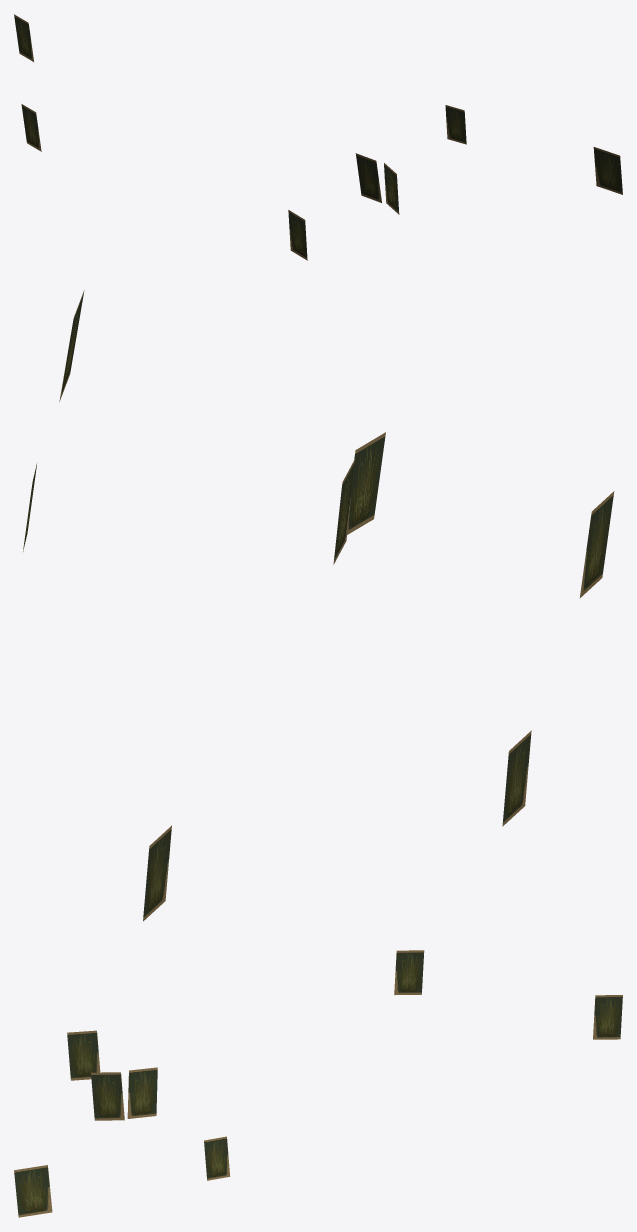
Rendered from menu_object_grass_polys10.fbx.
3 renders of one model, top to bottom at view 1: azimuth 30°, elevation 25°; view 2: azimuth 150°, elevation 25°; view 3: azimuth 270°, elevation 25°, orthographic. The views are drawn at different scales.
Parts seen in each view (by area): view 1: Material_#238683980/town_grass_mat; view 2: Material_#238683980/town_grass_mat; view 3: Material_#238683980/town_grass_mat.
Boxes of the visible parts, <box> form: Material_#238683980/town_grass_mat: <box>14,14,622,260</box>; Material_#238683980/town_grass_mat: <box>23,290,614,921</box>; Material_#238683980/town_grass_mat: <box>14,950,622,1217</box>.
Bounding box in the file's own units: 14.68 × 2.22 × 17.77.
